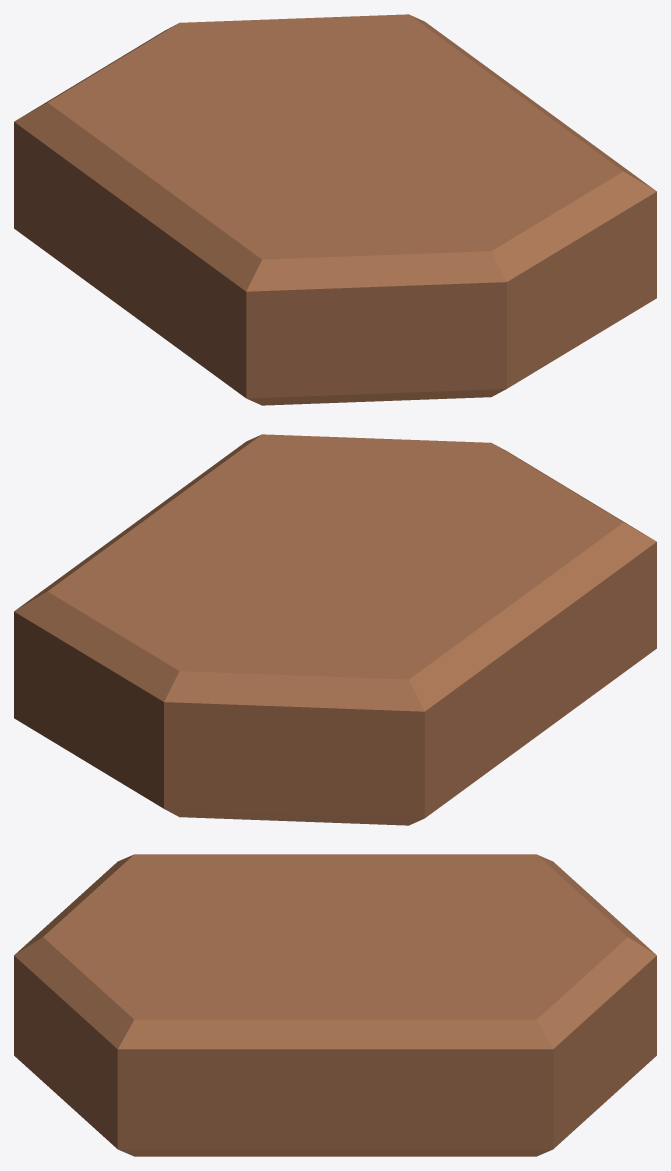
Rendered from SonelmismoisloteXDdeCasa3.fbx.
3 views of the same model, one above another, from view 1: azimuth 30°, elevation 25°; view 2: azimuth 150°, elevation 25°; view 3: azimuth 270°, elevation 25° (orthographic). The views are drawn at different scales.
Parts seen in each view (by area): view 1: Cube.004; view 2: Cube.004; view 3: Cube.004.
Boxes of the visible parts, x1,y1,x2,y2 form: Cube.004: [14, 14, 656, 405]; Cube.004: [14, 434, 656, 825]; Cube.004: [14, 854, 656, 1156].
Size of the model in its own units: 168 by 56.95 by 242.
